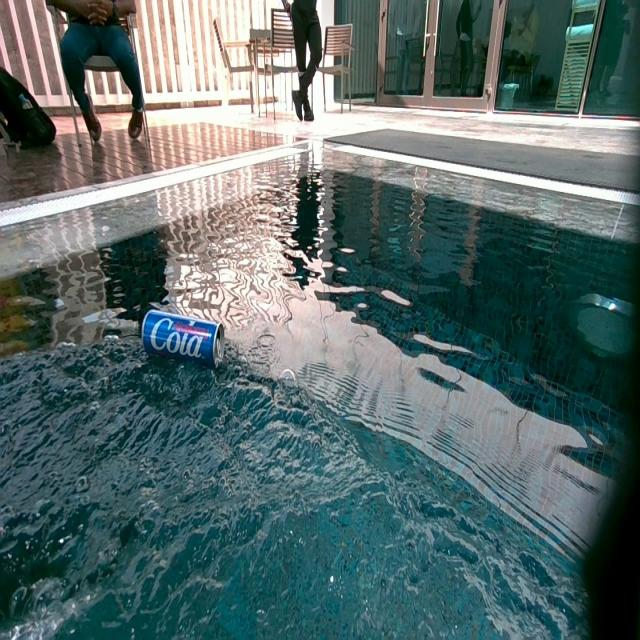Cans: (143, 310, 226, 372)
